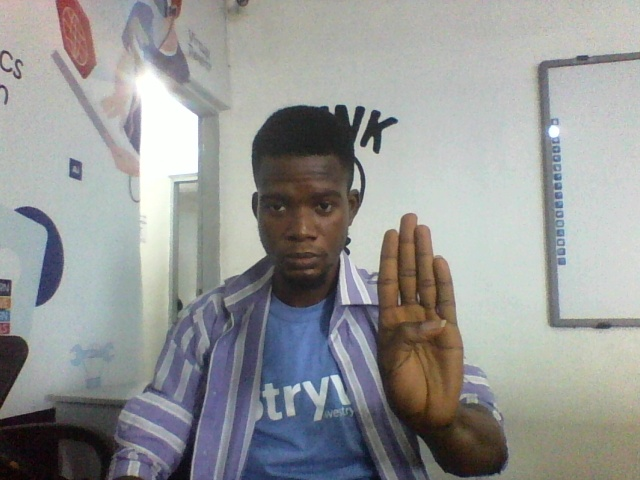hello: (369, 208, 467, 446)
